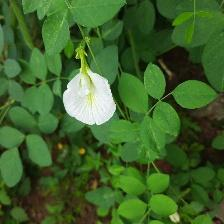shankupushpam: (62, 69, 120, 131)
